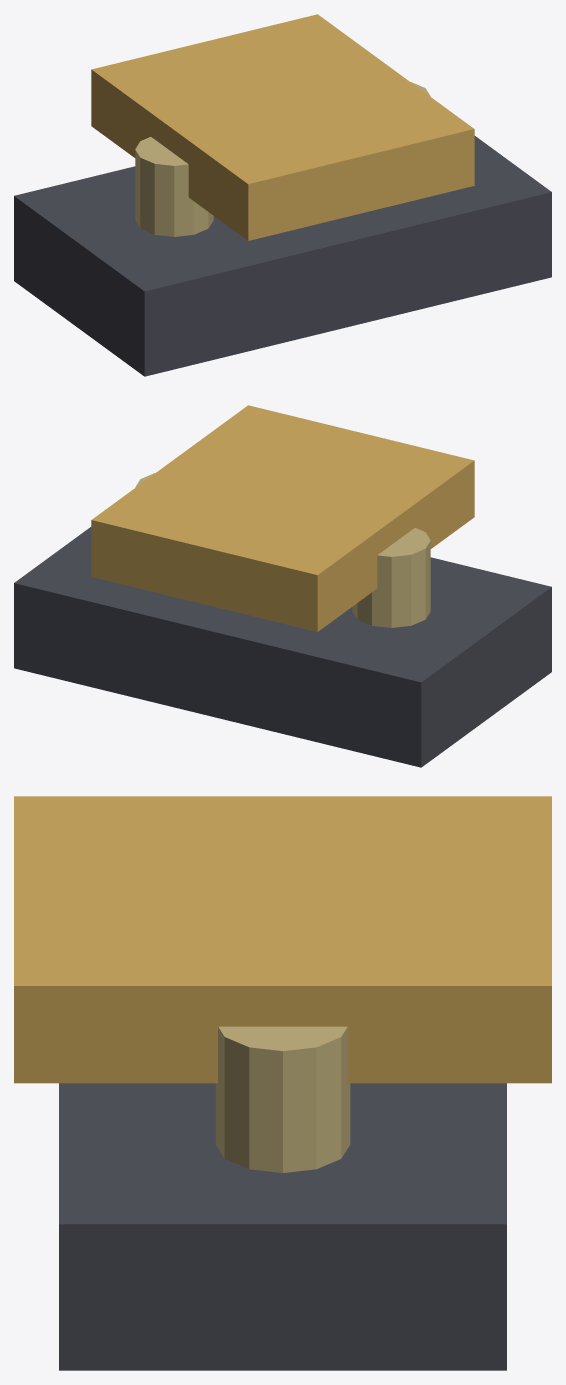
3 renders of one model, top to bottom at view 1: azimuth 30°, elevation 25°; view 2: azimuth 150°, elevation 25°; view 3: azimuth 270°, elevation 25°, orthographic. The views are drawn at different scales.
Parts seen in each view (by area): view 1: 000_Connector_Black__PSMAT__Connector_Black, 003_Warning_Amber__PSMAT__Warning_Amber, 001_Gold_ENIG__PSMAT__Gold_ENIG; view 2: 000_Connector_Black__PSMAT__Connector_Black, 003_Warning_Amber__PSMAT__Warning_Amber, 001_Gold_ENIG__PSMAT__Gold_ENIG; view 3: 003_Warning_Amber__PSMAT__Warning_Amber, 000_Connector_Black__PSMAT__Connector_Black, 002_Gold_ENIG__PSMAT__Gold_ENIG.
Part boxes in pixels (x1,y1,x2,y2): 000_Connector_Black__PSMAT__Connector_Black: [14, 136, 551, 376]; 003_Warning_Amber__PSMAT__Warning_Amber: [91, 14, 474, 240]; 001_Gold_ENIG__PSMAT__Gold_ENIG: [135, 137, 213, 236]; 000_Connector_Black__PSMAT__Connector_Black: [14, 527, 551, 767]; 003_Warning_Amber__PSMAT__Warning_Amber: [91, 405, 474, 631]; 001_Gold_ENIG__PSMAT__Gold_ENIG: [352, 528, 430, 627]; 003_Warning_Amber__PSMAT__Warning_Amber: [14, 796, 551, 1083]; 000_Connector_Black__PSMAT__Connector_Black: [59, 1083, 506, 1370]; 002_Gold_ENIG__PSMAT__Gold_ENIG: [215, 1026, 350, 1172].
Bounding box in the file's own units: 0.009 × 0.0038 × 0.006.
